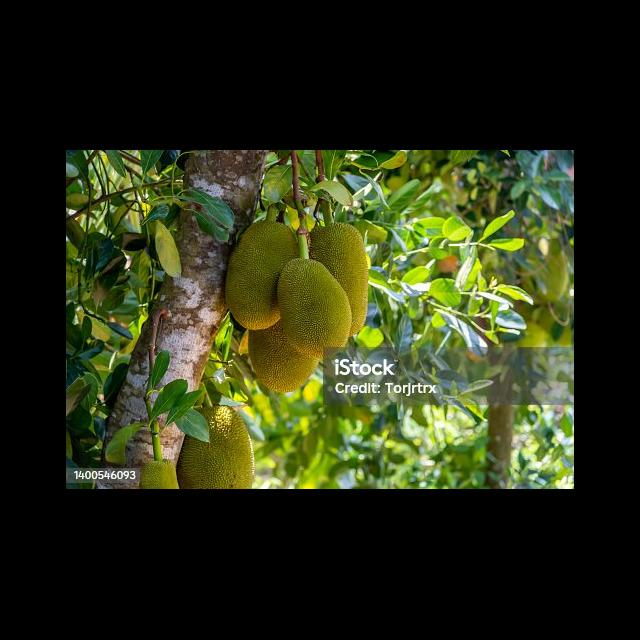mit: (223, 212, 300, 332), (279, 256, 353, 360), (307, 221, 373, 332), (179, 403, 256, 490), (243, 327, 321, 395), (138, 458, 178, 489)
